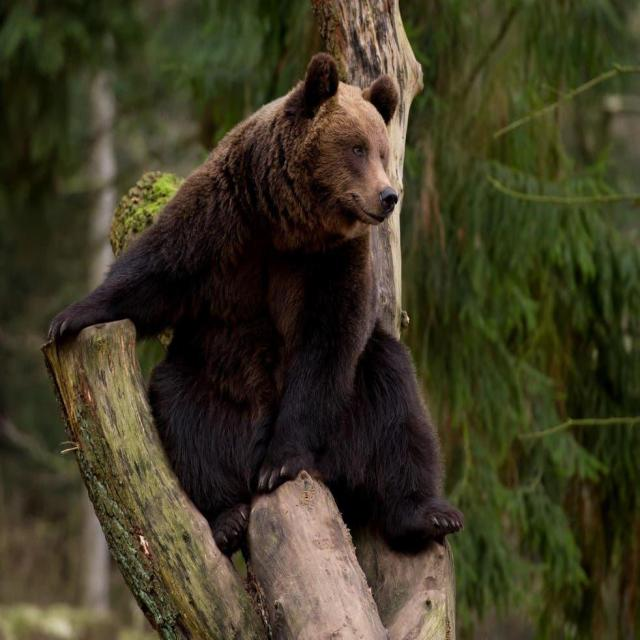Bear: (46, 55, 463, 561)
